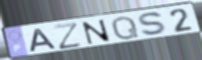2: (169, 8, 195, 33)
A: (29, 27, 58, 53)
N: (80, 19, 113, 46)
Q: (111, 15, 141, 41)
S: (136, 11, 170, 37)
Z: (52, 21, 85, 51)
